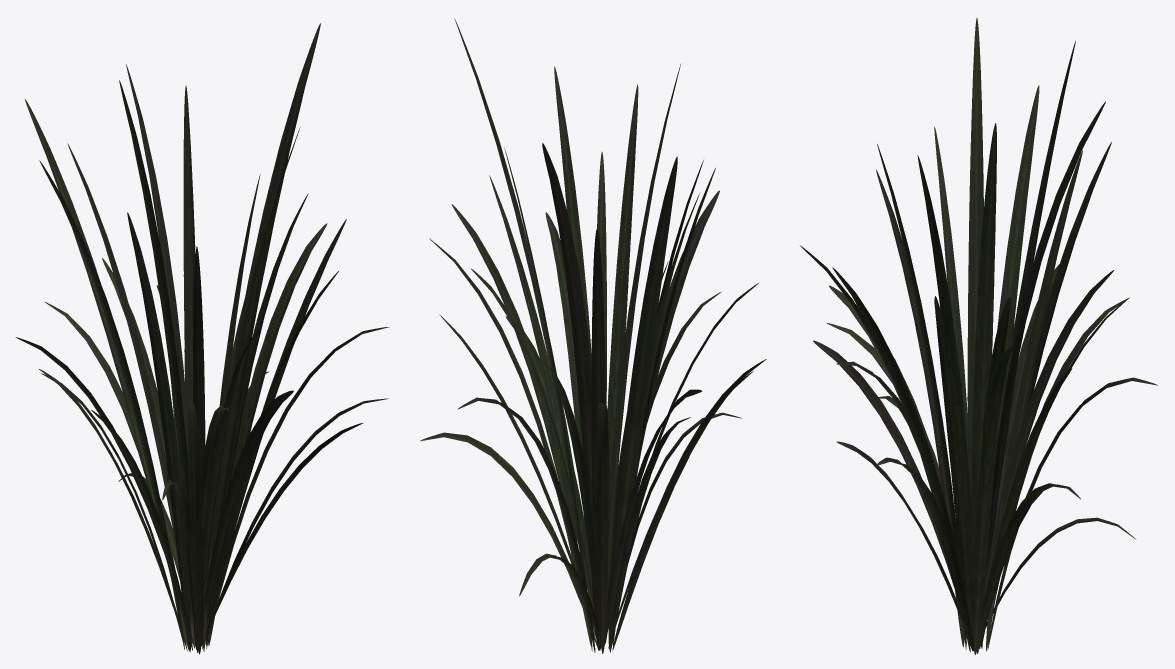
File: formio_110.glb
3 renders of one model, left to right at view 1: azimuth 30°, elevation 25°; view 2: azimuth 150°, elevation 25°; view 3: azimuth 270°, elevation 25°, orthographic. The views are drawn at different scales.
Parts seen in each view (by area): view 1: formio_110; view 2: formio_110; view 3: formio_110.
Part boxes in pixels (<box>): formio_110: <box>15,23,389,654</box>; formio_110: <box>420,18,766,653</box>; formio_110: <box>800,18,1157,654</box>.
Size of the model in its own units: 0.6 by 1.1 by 0.6.
1 material, 1 textured.
